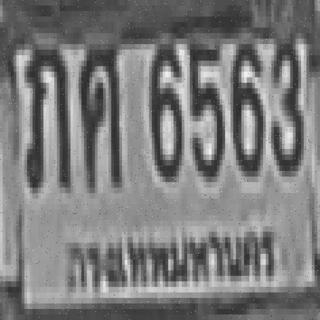A32: (24, 44, 68, 188)
A38: (78, 36, 120, 185)
N03: (268, 36, 301, 168)
N05: (187, 38, 222, 176)
N06: (229, 38, 262, 171), (148, 41, 180, 174)
P04: (59, 213, 278, 304)
